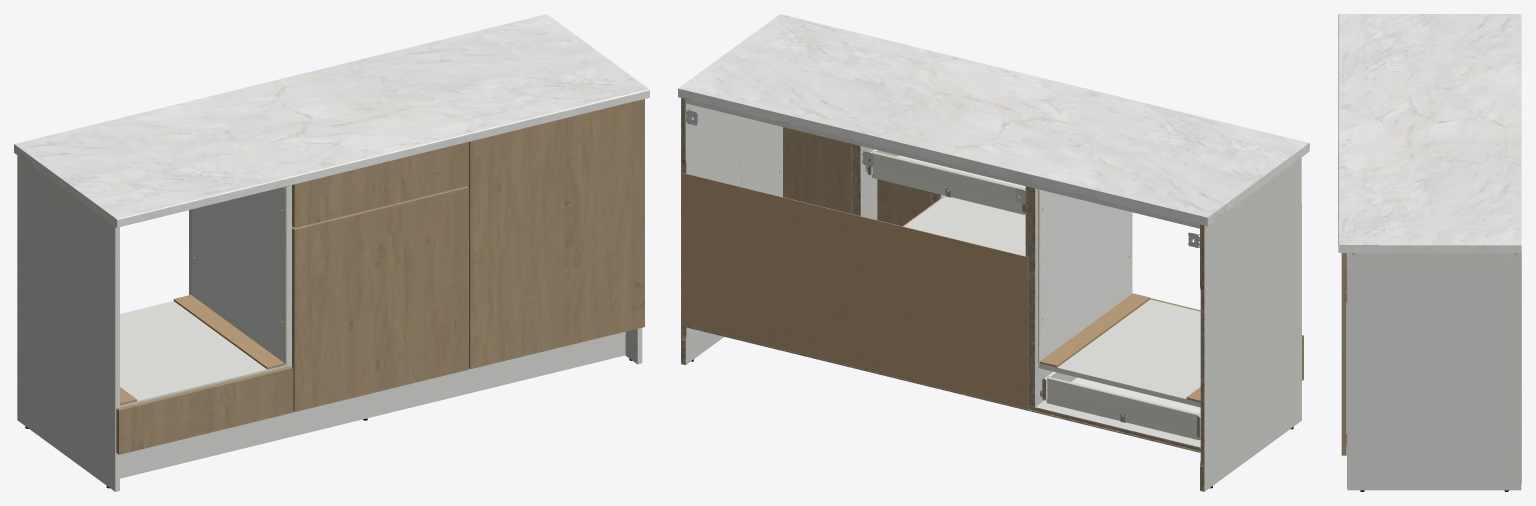
Rendered from knoxhult-armario-bajo-con-puertas-y-cajon-efecto-roble.glb.
3 views of the same model, side by side, from view 1: azimuth 30°, elevation 25°; view 2: azimuth 150°, elevation 25°; view 3: azimuth 270°, elevation 25° (orthographic). The views are drawn at different scales.
Parts seen in each view (by area): view 1: ASY_ART_20603981_S01_NV01; view 2: ASY_ART_20603981_S01_NV01; view 3: ASY_ART_20603981_S01_NV01.
Part boxes in pixels (box(x1,y1,x2,y2)): ASY_ART_20603981_S01_NV01: box(14, 14, 649, 491); ASY_ART_20603981_S01_NV01: box(678, 14, 1309, 491); ASY_ART_20603981_S01_NV01: box(1338, 14, 1521, 491).
Bounding box in the file's own units: 1.82 × 0.9105 × 0.6099.
Materials: 2 (1 with a texture image).
